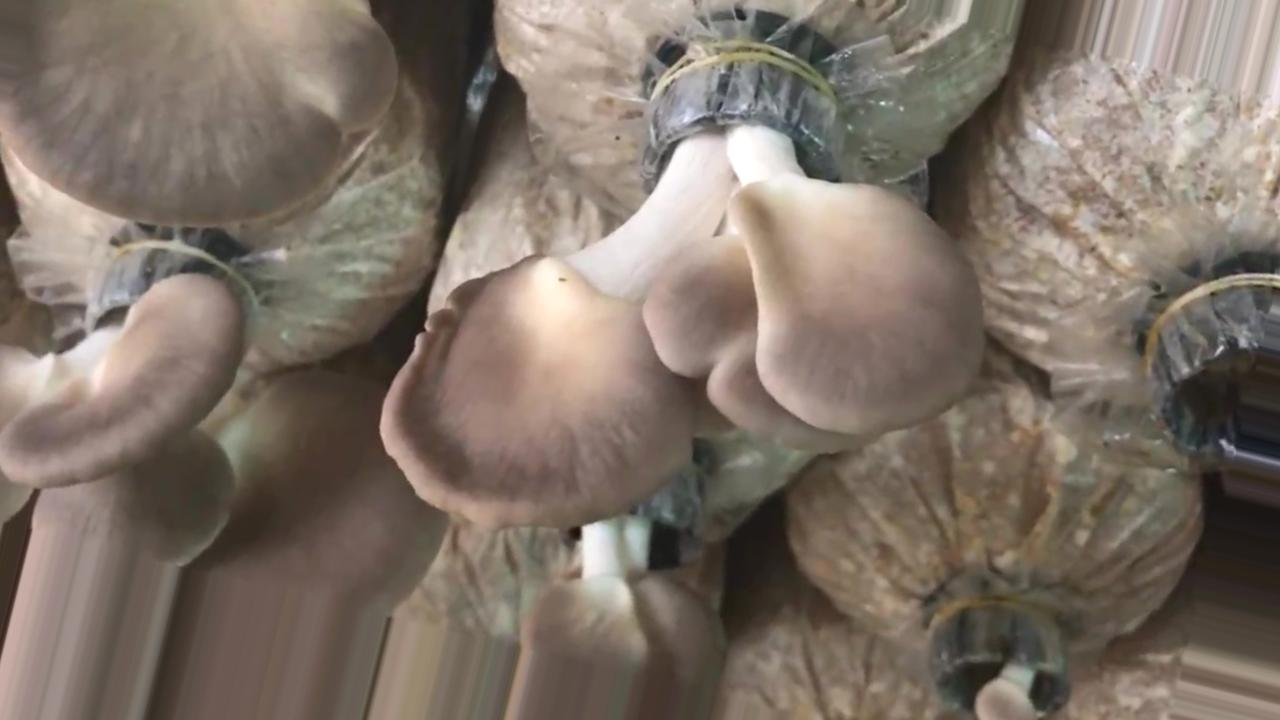nam: (380, 59, 984, 523), (1, 241, 448, 718), (1, 1, 397, 226), (505, 463, 725, 720), (930, 609, 1070, 720)
